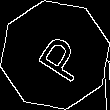P_NW: (24, 26, 86, 84)
